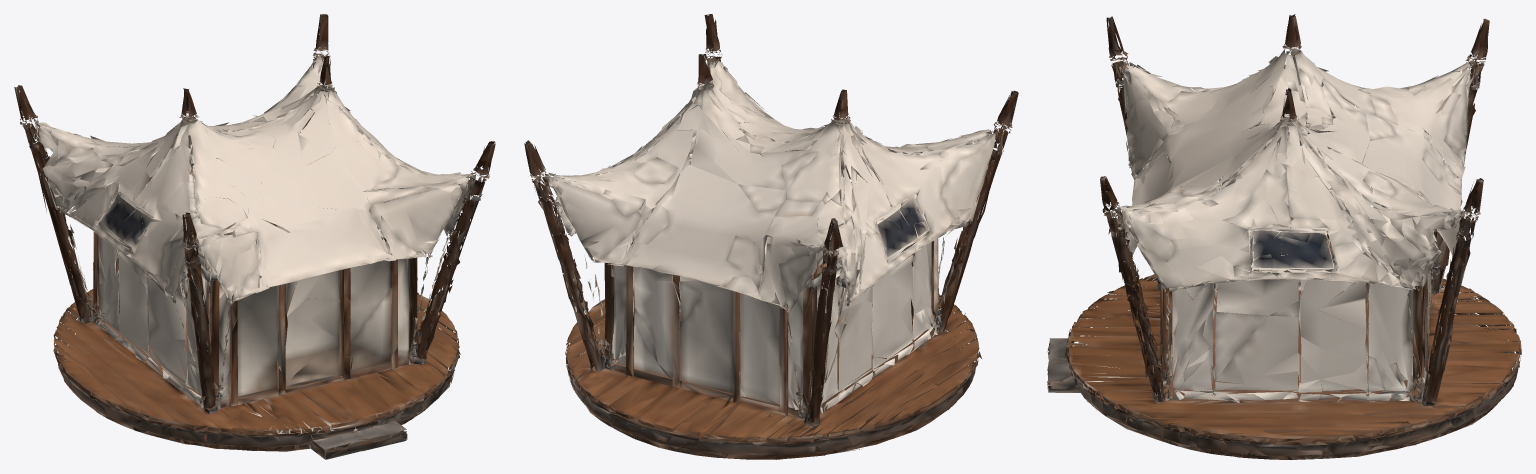
The model's file is glamp.glb.
3 views of the same model, side by side, from view 1: azimuth 30°, elevation 25°; view 2: azimuth 150°, elevation 25°; view 3: azimuth 270°, elevation 25° (orthographic). The views are drawn at different scales.
Parts seen in each view (by area): view 1: LO.001; view 2: LO.001; view 3: LO.001.
Boxes of the visible parts, x1=… form: LO.001: x1=14, y1=14, x2=495, y2=459; LO.001: x1=524, y1=14, x2=1018, y2=459; LO.001: x1=1047, y1=14, x2=1521, y2=459.
Size of the model in its own units: 1.76 by 1.43 by 1.91.
1 material, 1 textured.
